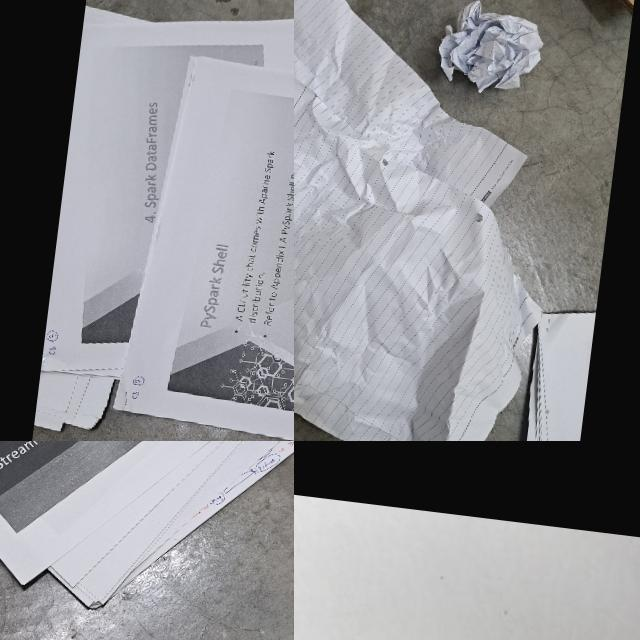papel: (294, 0, 579, 441), (33, 0, 294, 441), (0, 441, 294, 640), (435, 0, 547, 101), (515, 305, 595, 441)
